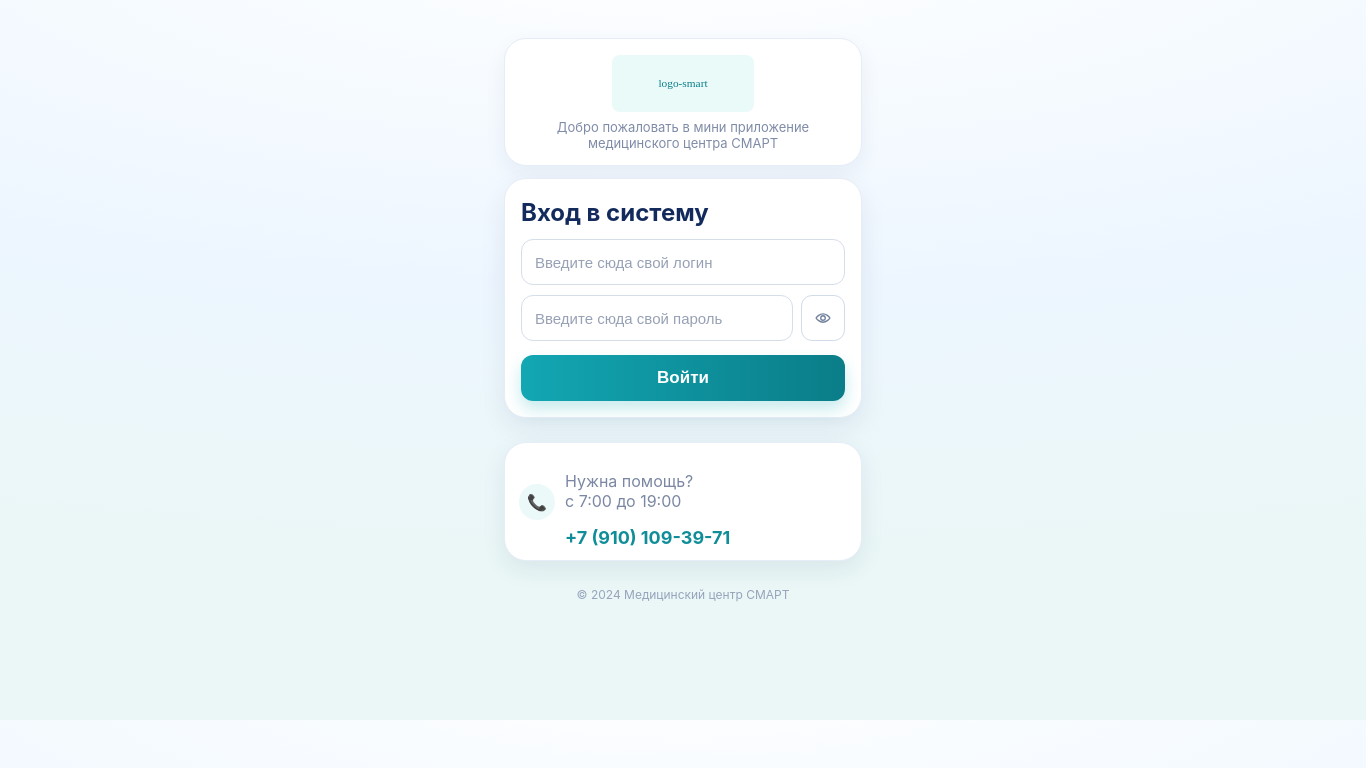
it: mini app redesign › после успешного входа очищает ошибку авторизации и не показывает ее на Home
The image size is (1366, 768).
Expected: the heading "Вход в систему" is shown, [521,198,709,227]
Type "demo" into the field with placeholder "Введите сюда свой логин". click: (683, 262)
box: [521,239,845,285]
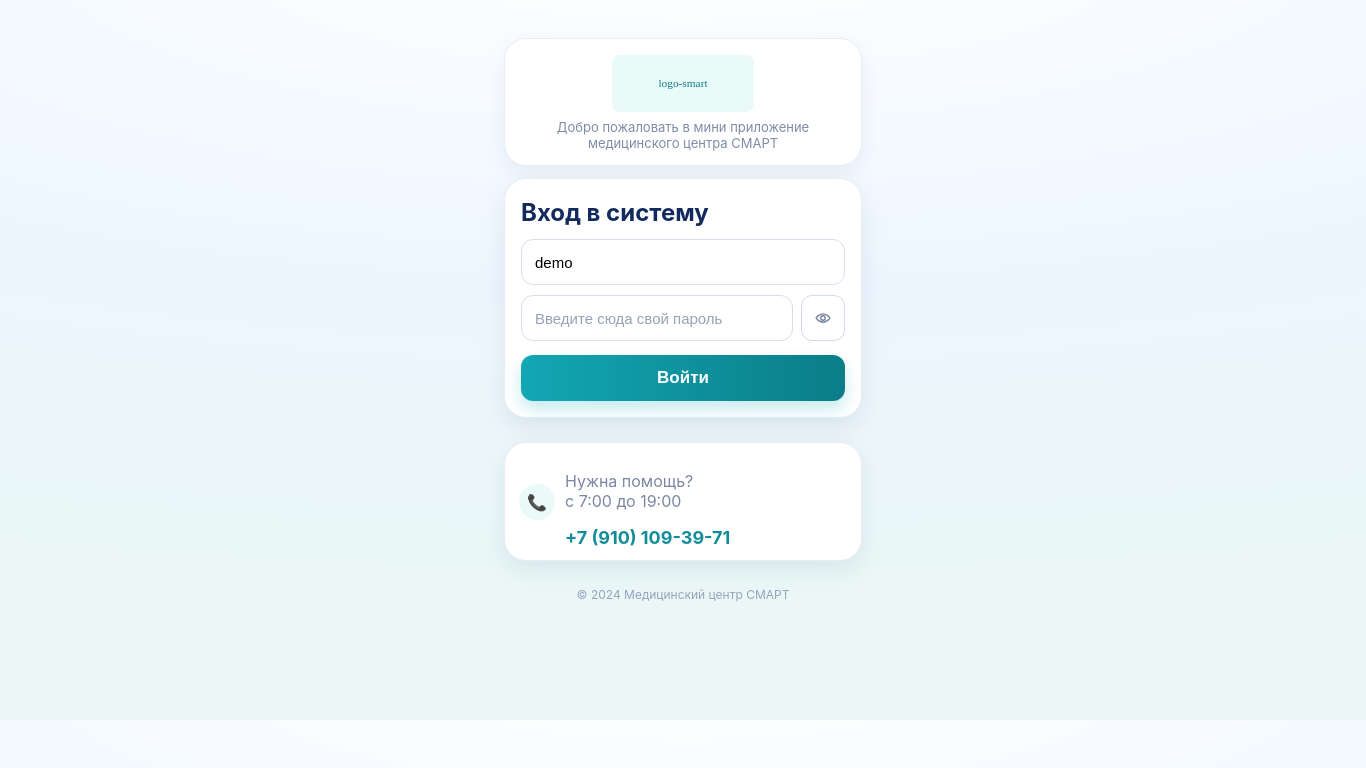
Type "bad" into the password field with placeholder "Введите сюда свой пароль". click: (657, 318)
box: [521,295,793,341]
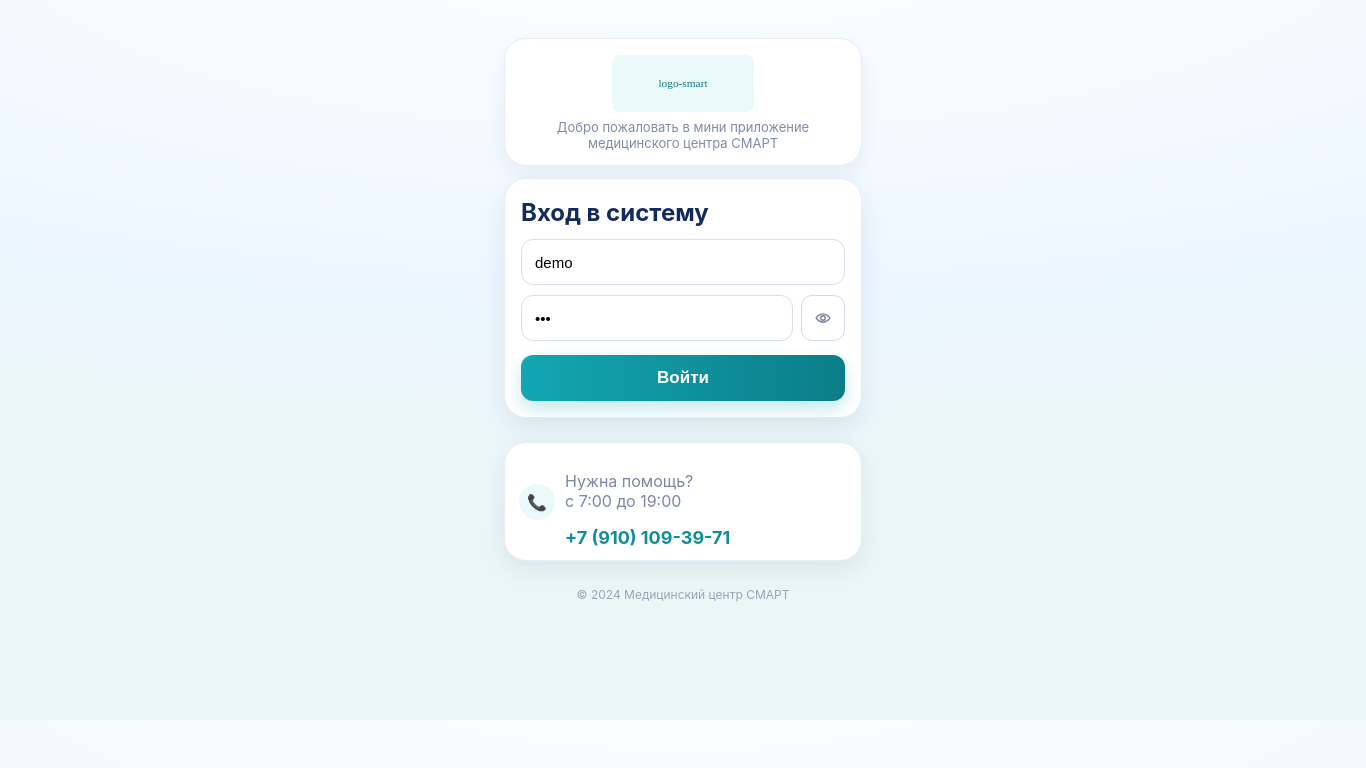
Click the button "Войти". click: (683, 378)
box: [521,355,845,401]
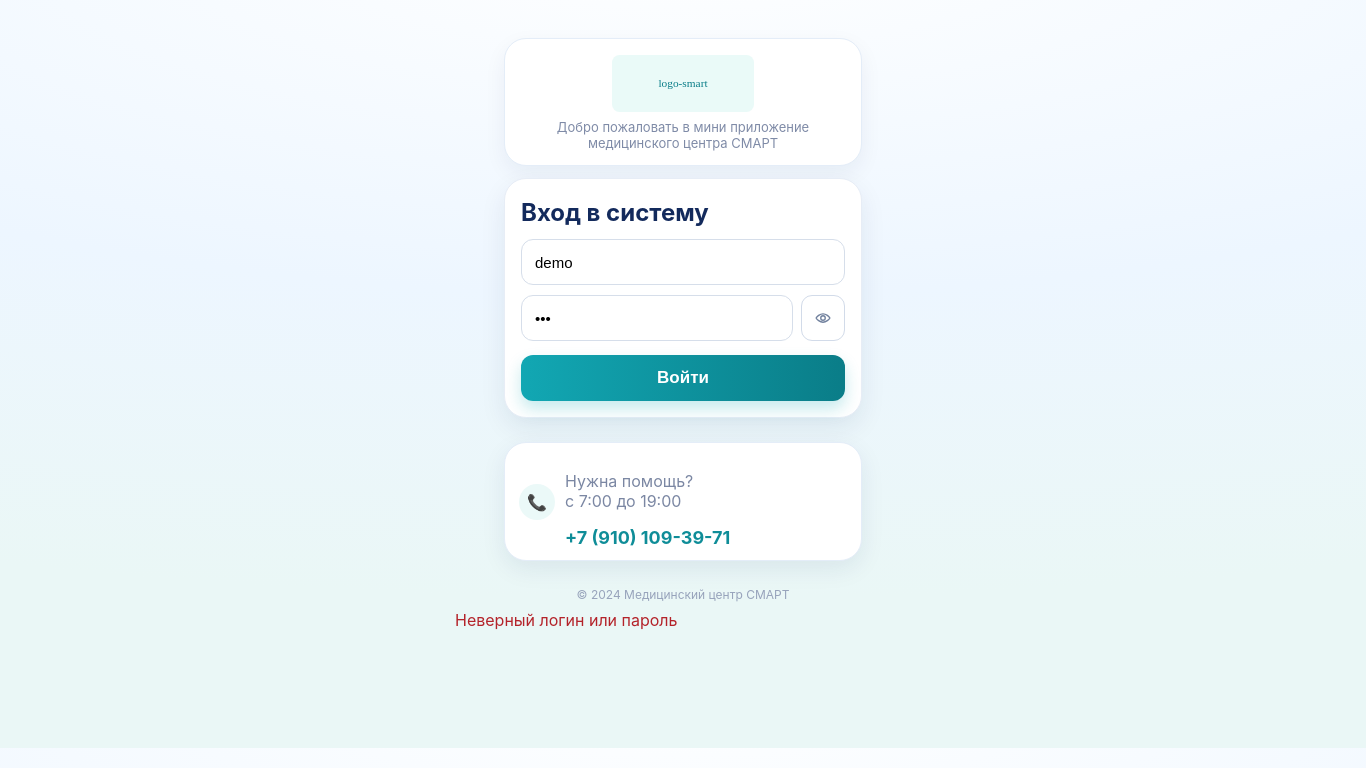
Expected: the text "Неверный логин или пароль" is shown, [455,610,678,630]
Type "good" into the password field with placeholder "Введите сюда свой пароль". click: (657, 318)
box: [521,295,793,341]
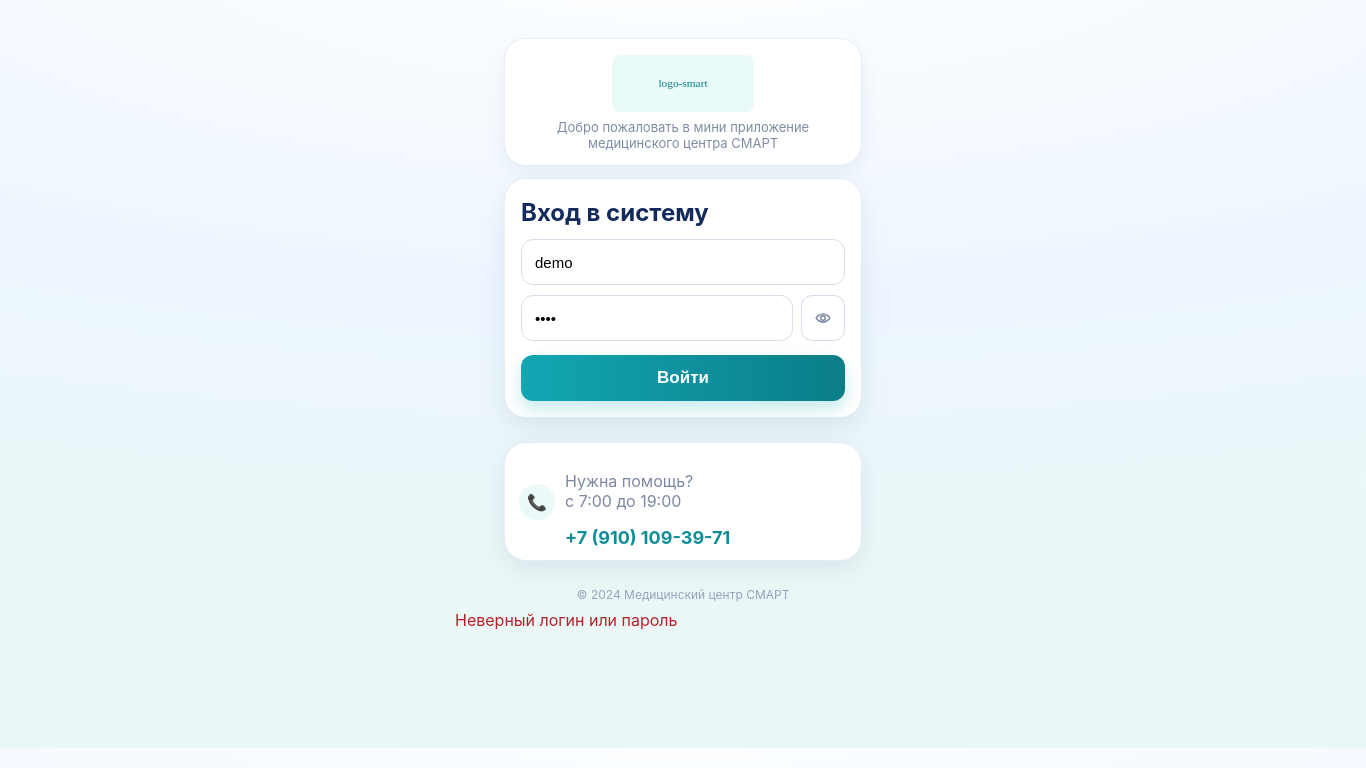
Click the button "Войти". click: (683, 378)
box: [521,355,845,401]
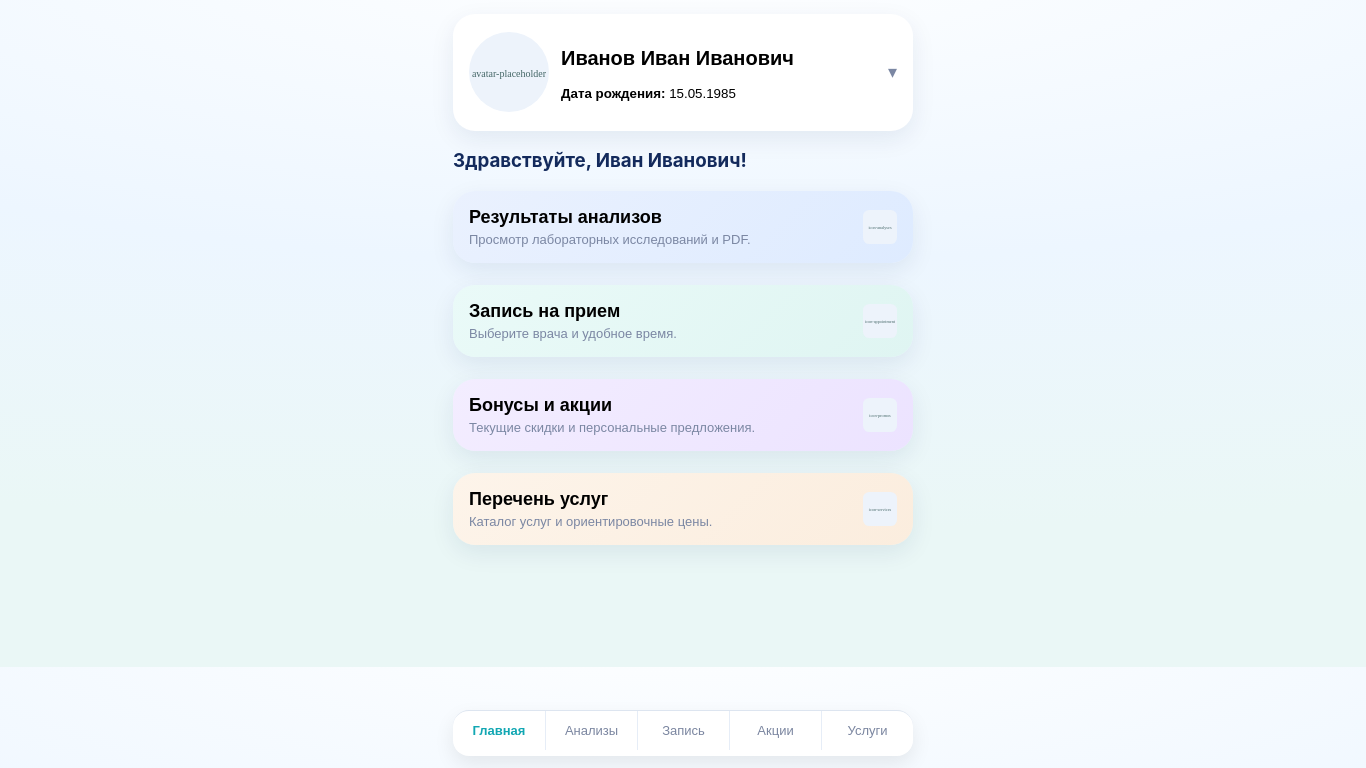
Expected: the heading "Иванов Иван Иванович" is shown, [561,47,794,69]
Expected: the text "Неверный логин или пароль" is gone
